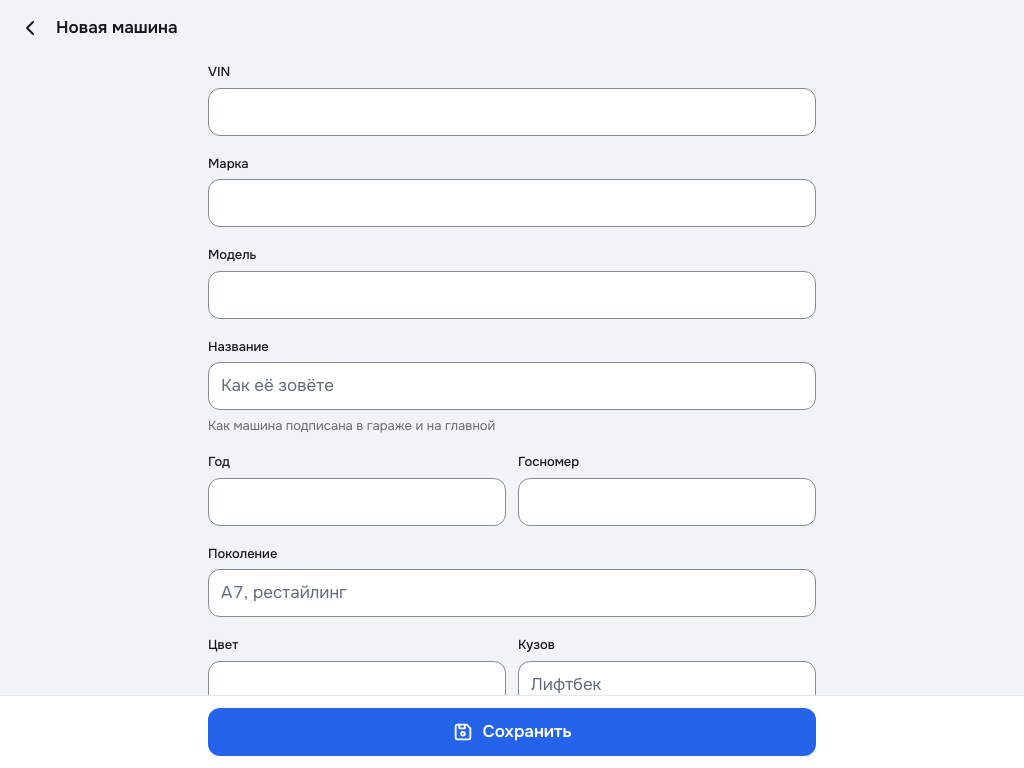
it: «Уточнить онлайн» без ответа — «Онлайн ничего не нашлось»
Type "XTA210990Y2765432" into the field labelled "VIN".
click(512, 112); type("XTA210990Y2765432")  # box [221, 89, 803, 135]
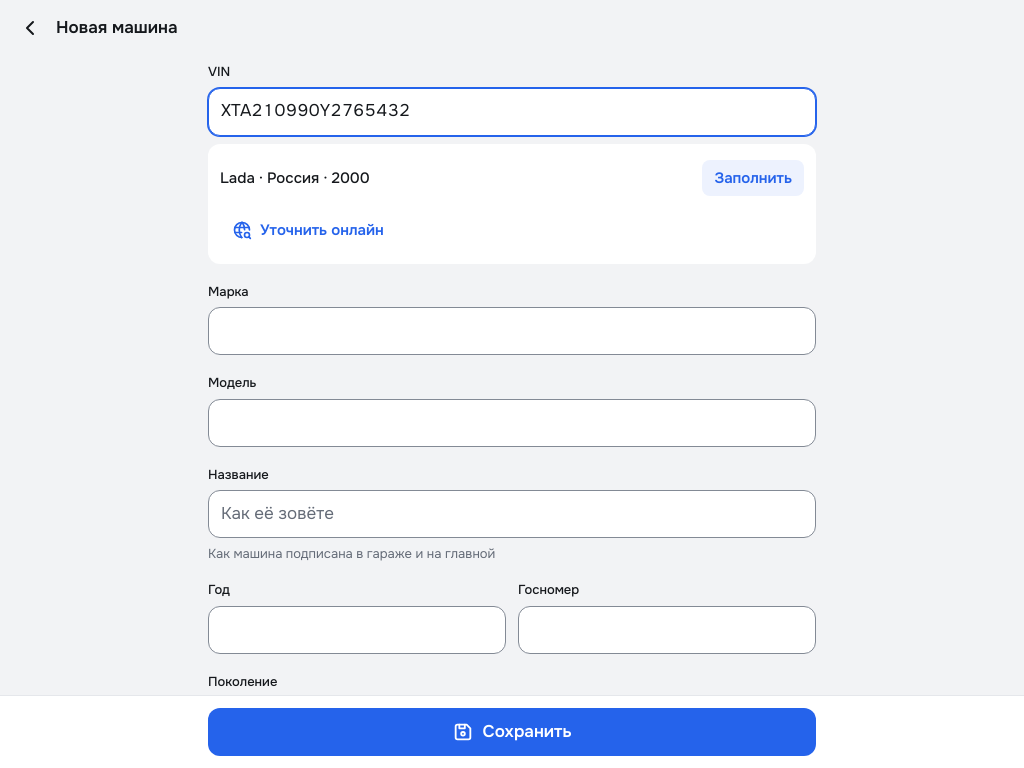
Click the button "Уточнить онлайн".
click(308, 230)  # box [220, 212, 396, 248]
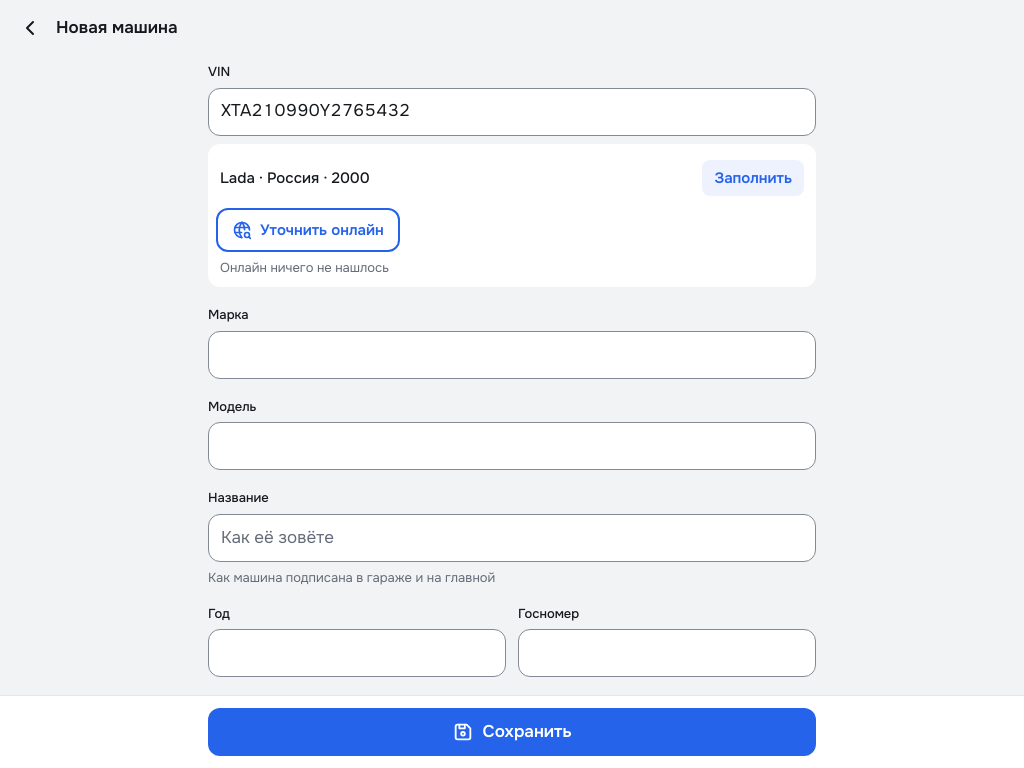
Expected: the text "Онлайн ничего не нашлось" is shown, [220, 259, 389, 276]
